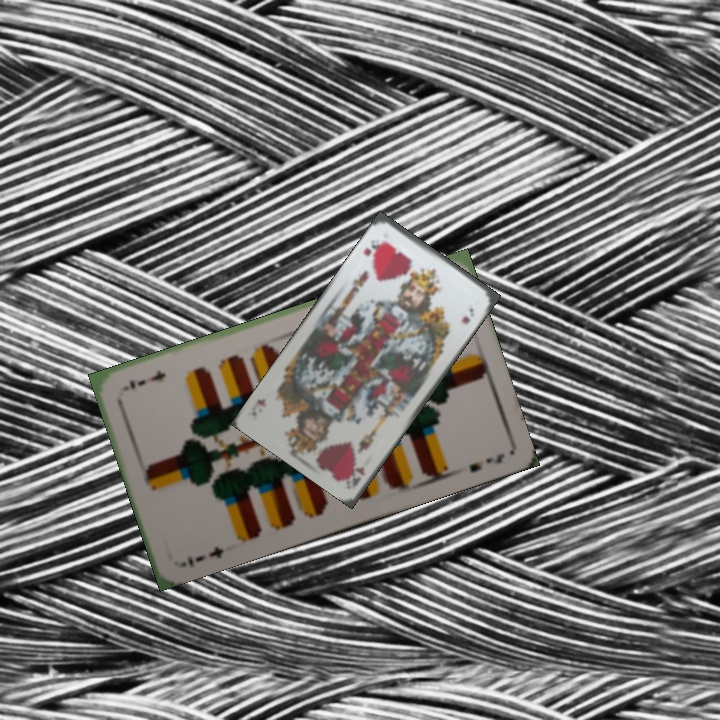E7: (183, 542, 227, 571)
HK: (359, 235, 387, 259), (348, 462, 368, 490)
